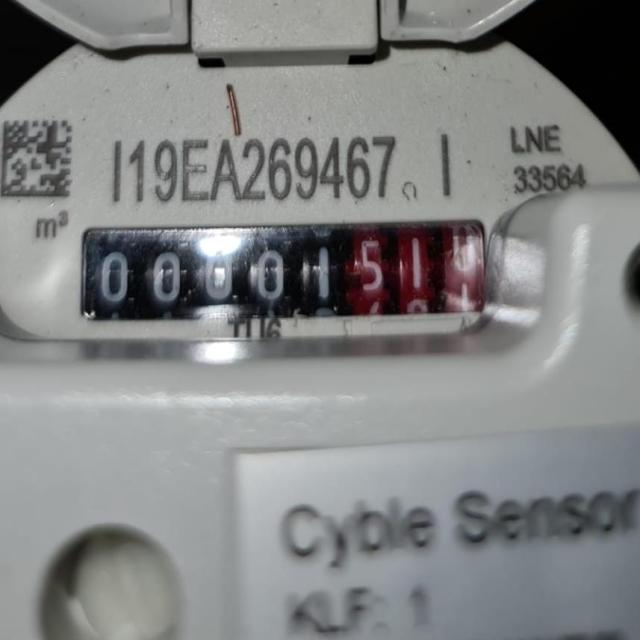gaz_meter: (2, 29, 640, 394)
indication: (82, 218, 487, 321)
